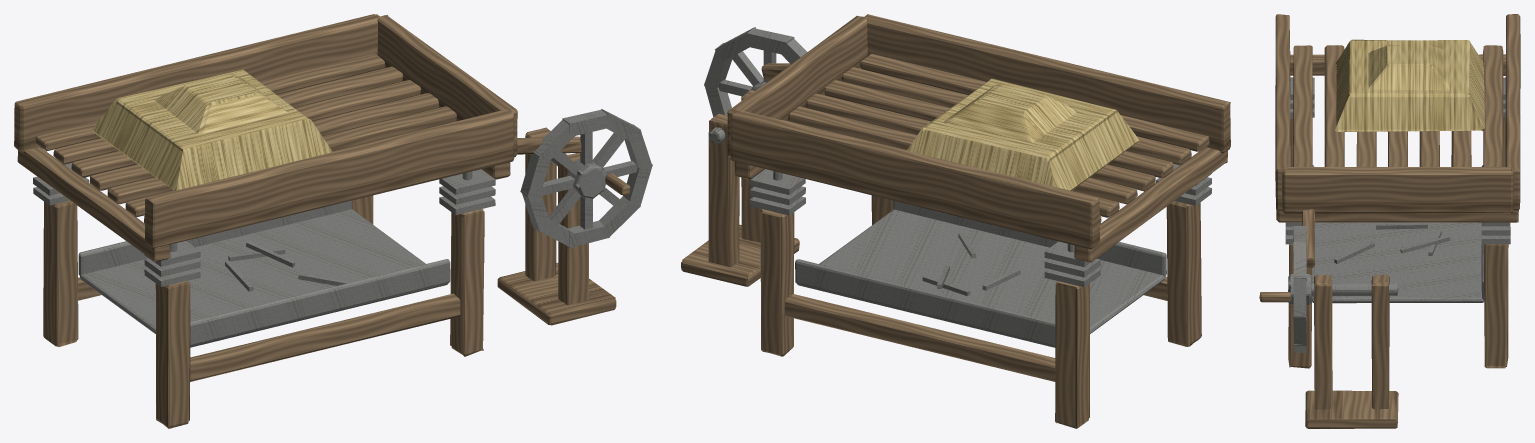
File: shaker_table_small.glb
3 renders of one model, left to right at view 1: azimuth 30°, elevation 25°; view 2: azimuth 150°, elevation 25°; view 3: azimuth 270°, elevation 25°, orthographic. The views are drawn at different scales.
Parts seen in each view (by area): view 1: ShakerTableSmall, Shaker, HayFill, Crank; view 2: ShakerTableSmall, Shaker, HayFill, Crank; view 3: Shaker, ShakerTableSmall, HayFill, Crank.
Boxes of the visible parts, x1=… form: ShakerTableSmall: x1=33, y1=127, x2=630, y2=428; Shaker: x1=14, y1=14, x2=517, y2=262; HayFill: x1=92, y1=69, x2=332, y2=190; Crank: x1=520, y1=109, x2=652, y2=248; ShakerTableSmall: x1=681, y1=63, x2=1211, y2=428; Shaker: x1=727, y1=14, x2=1230, y2=262; HayFill: x1=907, y1=78, x2=1140, y2=190; Crank: x1=704, y1=27, x2=807, y2=116; Shaker: x1=1275, y1=14, x2=1520, y2=222; ShakerTableSmall: x1=1259, y1=77, x2=1510, y2=428; HayFill: x1=1335, y1=39, x2=1484, y2=131; Crank: x1=1288, y1=226, x2=1312, y2=352.
Bounding box in the file's own units: 2.52 × 1.24 × 1.27.
3 materials, 3 textured.
